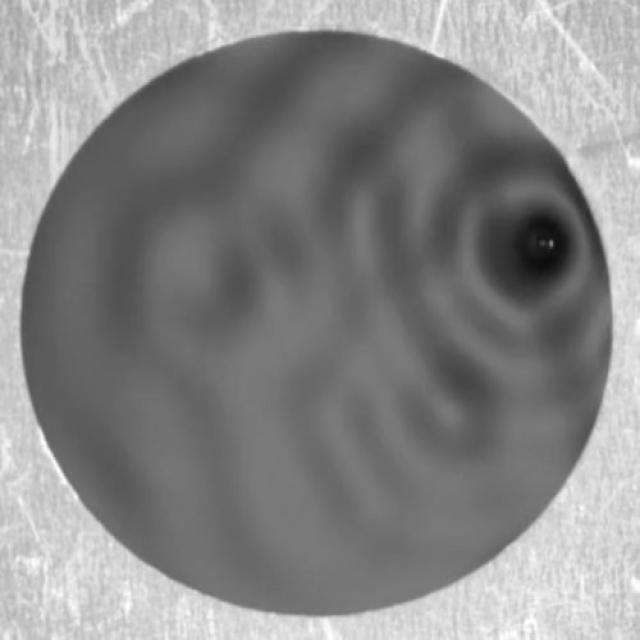droplet: (534, 230, 561, 266)
